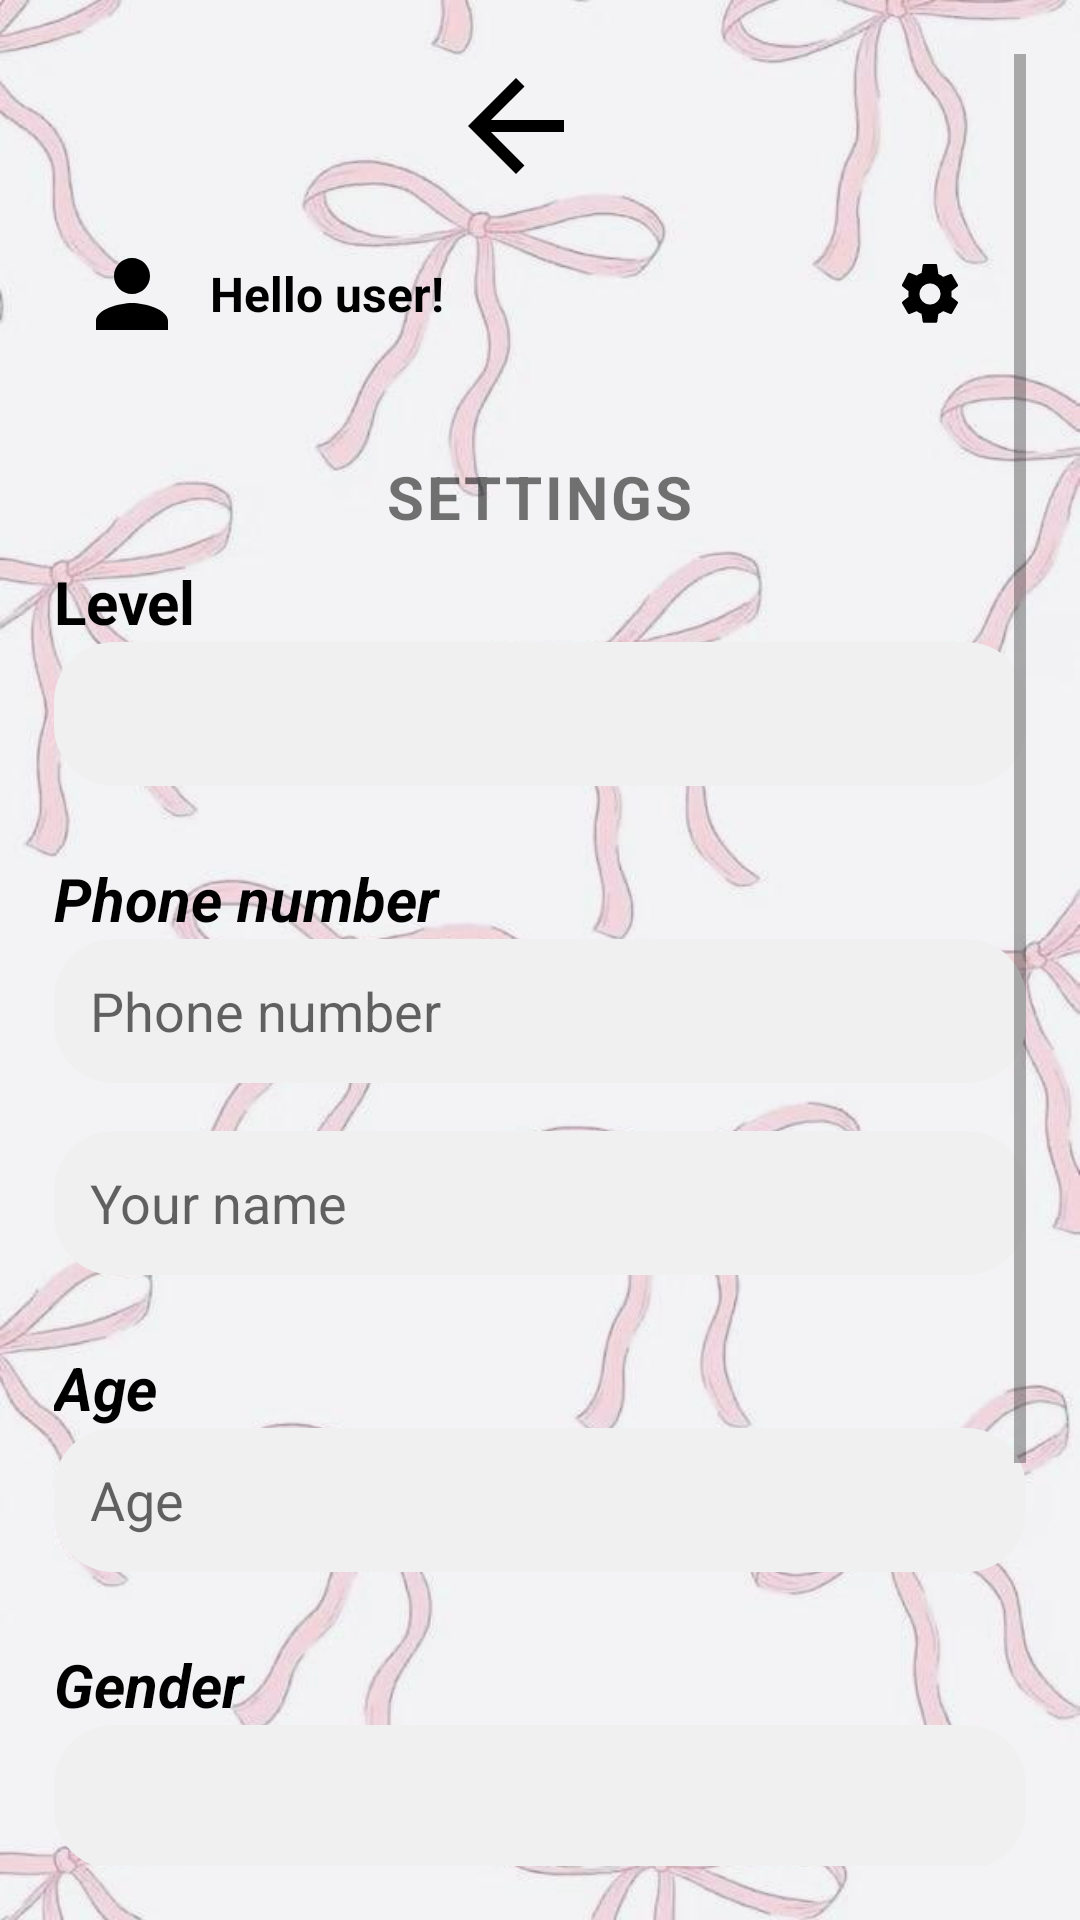

Screen size 1080x1920. Icon name, then its center in pixels as [x,y]:
Back: [516,126]
Profile icon: [123,285]
Settings: [930,293]
